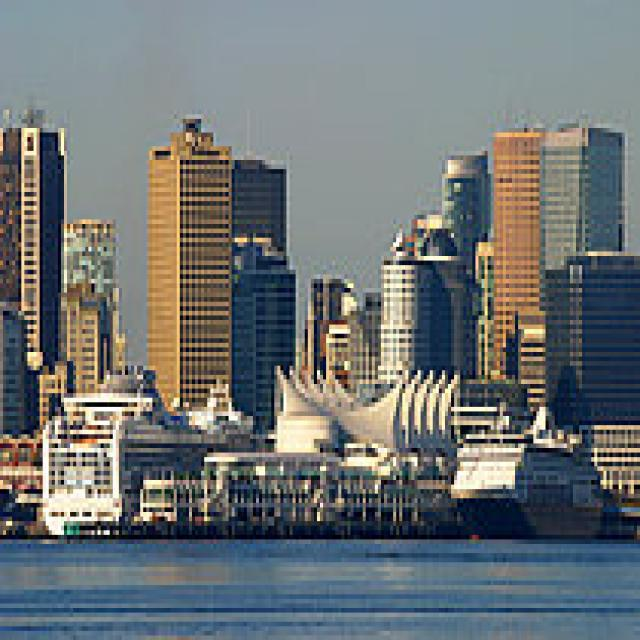Ship: (446, 403, 623, 550)
